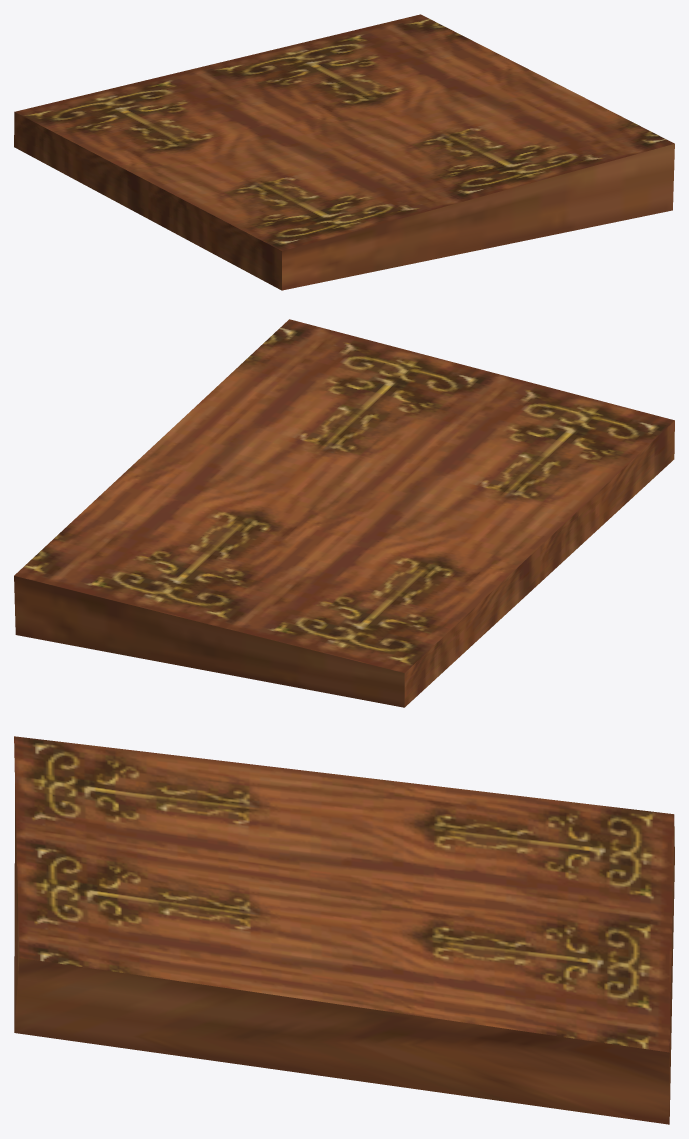
File: EKH_THRONE_PS_TH_THRONE_STEP_04.fbx
3 renders of one model, top to bottom at view 1: azimuth 30°, elevation 25°; view 2: azimuth 150°, elevation 25°; view 3: azimuth 270°, elevation 25°, orthographic. The views are drawn at different scales.
Parts seen in each view (by area): view 1: EKH_THRONE_PS_TH_THRONE_STEP_04; view 2: EKH_THRONE_PS_TH_THRONE_STEP_04; view 3: EKH_THRONE_PS_TH_THRONE_STEP_04.
Part boxes in pixels (x1,y1,x2,y2): EKH_THRONE_PS_TH_THRONE_STEP_04: [14, 14, 674, 290]; EKH_THRONE_PS_TH_THRONE_STEP_04: [14, 319, 674, 707]; EKH_THRONE_PS_TH_THRONE_STEP_04: [14, 736, 674, 1124].
Size of the model in its own units: 10368 by 3182 by 11979.
Materials: 1 (1 with a texture image).
